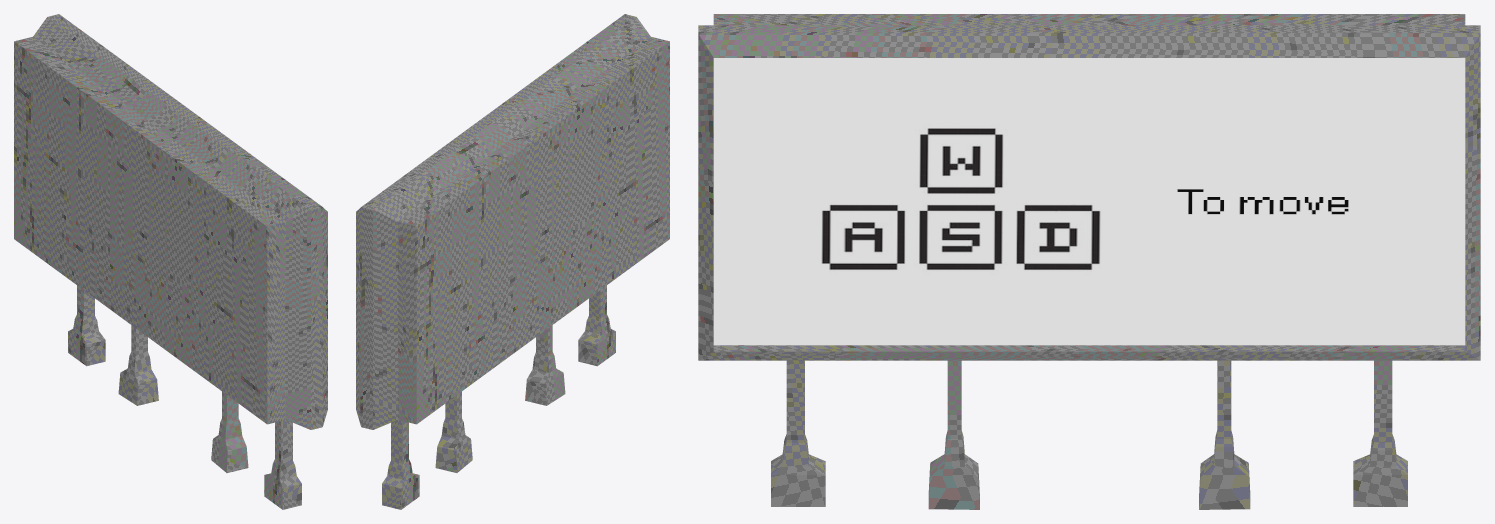
Rendered from WASDBILLBOARD.glb.
3 renders of one model, left to right at view 1: azimuth 30°, elevation 25°; view 2: azimuth 150°, elevation 25°; view 3: azimuth 270°, elevation 25°, orthographic. The views are drawn at different scales.
Parts seen in each view (by area): view 1: wasd_board; view 2: wasd_board; view 3: wasd_board.
Part boxes in pixels (<box>): wasd_board: <box>14,14,327,509</box>; wasd_board: <box>356,14,669,509</box>; wasd_board: <box>698,14,1480,509</box>.
Bounding box in the file's own units: 2.1 × 10.56 × 15.84.
Materials: 2 (2 with a texture image).
